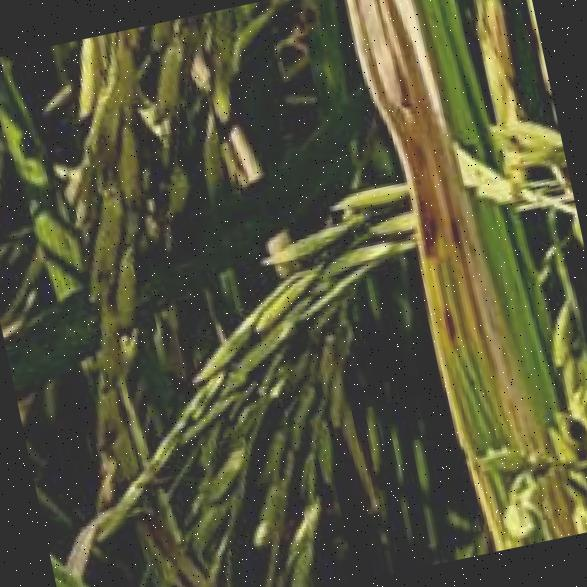Bacteria_Leaf_Blight: (317, 0, 559, 488)
